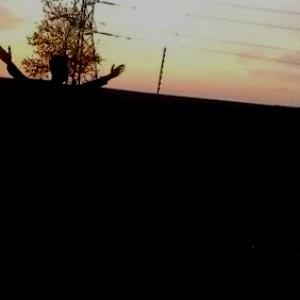takeoff: (0, 46, 120, 207)
